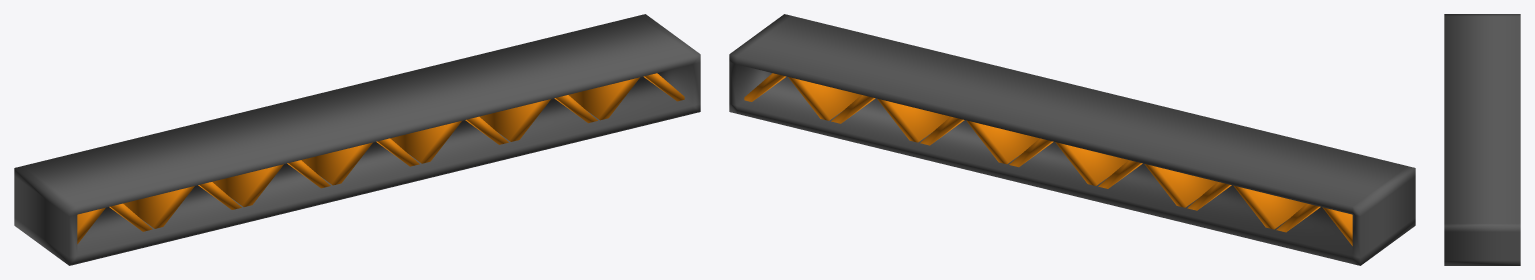
Rendered from Ceiling.fbx.
The picture shows the model from 3 angles, left to right: view 1: azimuth 30°, elevation 25°; view 2: azimuth 150°, elevation 25°; view 3: azimuth 270°, elevation 25°; orthographic projection. The views are drawn at different scales.
Parts seen in each view (by area): view 1: Cube.016; view 2: Cube.016; view 3: Cube.016.
Part boxes in pixels (x1,y1,x2,y2): Cube.016: (14,14,700,265); Cube.016: (729,14,1415,265); Cube.016: (1444,14,1520,265).
Bounding box in the file's own units: 412 × 35.9 × 62.31.
